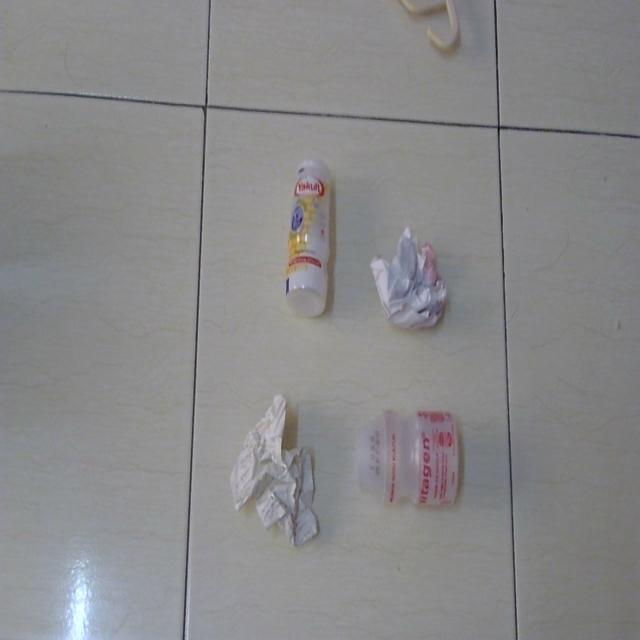paperrotation: (224, 388, 331, 552), (368, 222, 451, 346)
plastic_laydown_0rotation: (350, 403, 468, 514)
plastic_laydown_90rotation: (283, 155, 339, 316)
